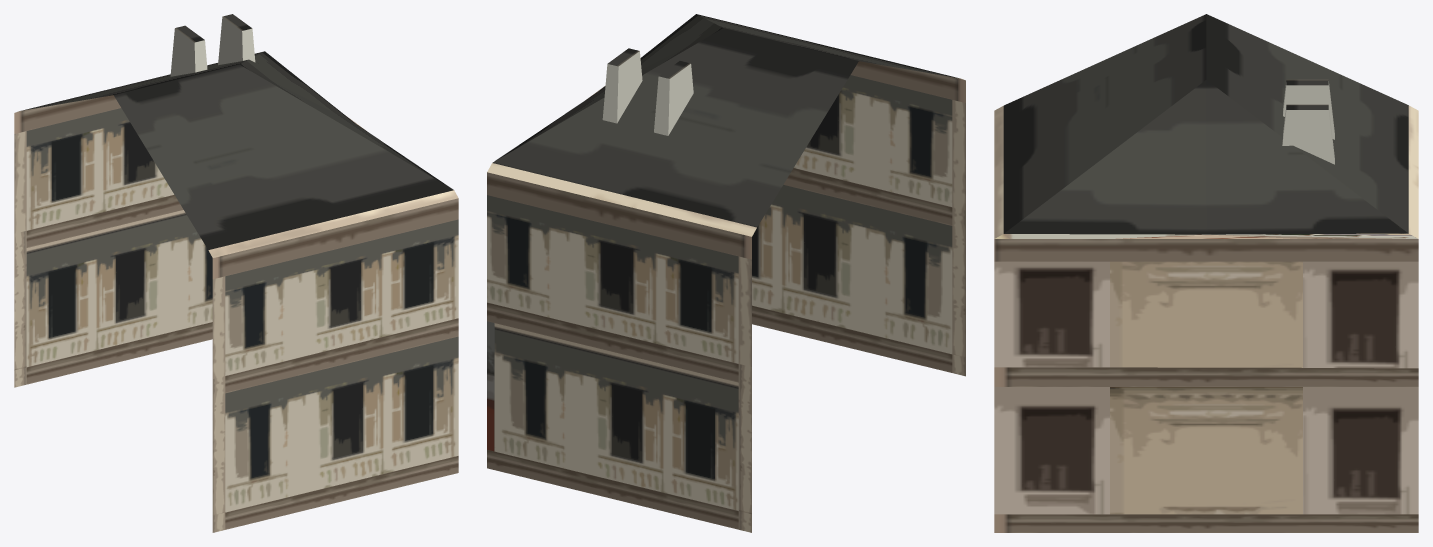
Rendered from SM_Building_Rich_02b.fbx.
3 views of the same model, side by side, from view 1: azimuth 30°, elevation 25°; view 2: azimuth 150°, elevation 25°; view 3: azimuth 270°, elevation 25° (orthographic). The views are drawn at different scales.
Parts seen in each view (by area): view 1: SM_Building_Rich_02b; view 2: SM_Building_Rich_02b; view 3: SM_Building_Rich_02b.
Boxes of the visible parts, <box> form: SM_Building_Rich_02b: <box>14,14,458,532</box>; SM_Building_Rich_02b: <box>487,14,965,532</box>; SM_Building_Rich_02b: <box>994,14,1418,532</box>.
Size of the model in its own units: 10.06 by 14.27 by 14.06.
